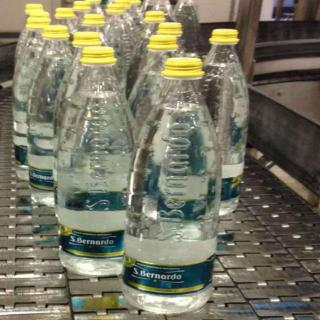Plastic-bottle: (122, 57, 224, 307), (49, 40, 143, 284), (10, 17, 90, 216), (194, 31, 258, 221)
